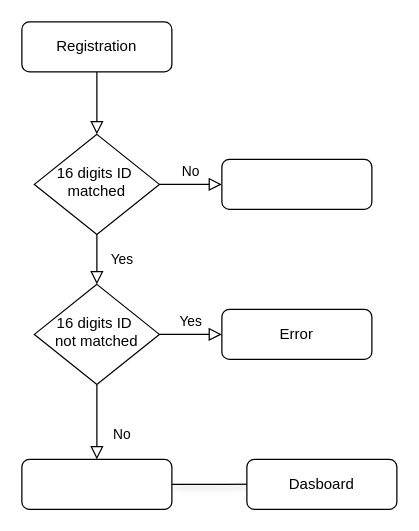
Some shapes in this 419 by 531 pixel diagram are drawn without their labels. The shapes that lost their labels are listed below. From the top down, each one's centre as x and y in pixels, then its label:
At (296,183): "Registration Screen 2".
At (96,483): "Successful registration".
